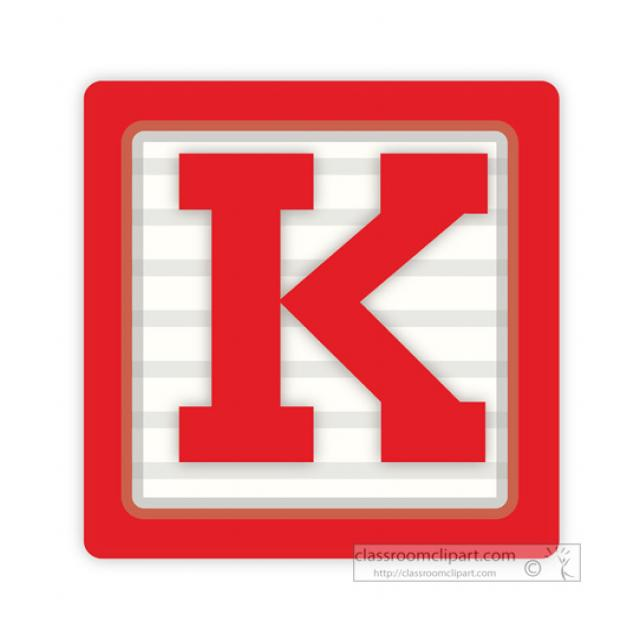K: (143, 141, 497, 484)
